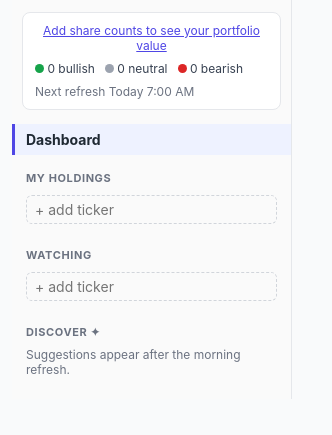
Scenario: add error shows the backend detail
Type "a;b" into the field named "Add to My Holdings" at (152, 210), box [26,195,277,224]
Then press Enter
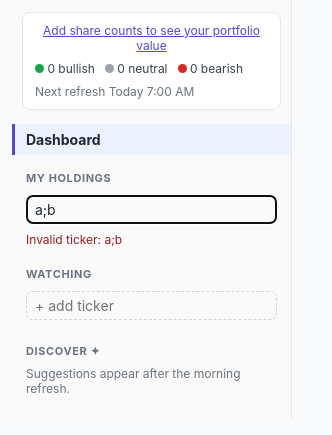
Expected: the text "Invalid ticker: a;b" is shown, [26,232,122,247]
